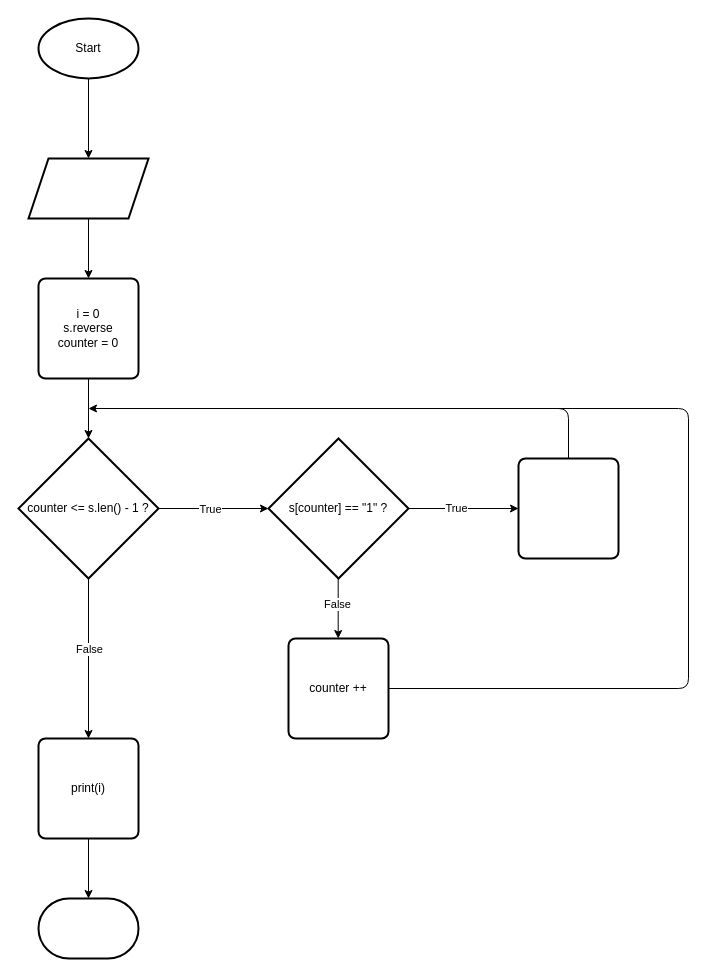
Image size: 707x976. Some labels were removed from this diagram. Each missing label, with the box of its shape:
End: (37, 897, 139, 959)
i += 2^counter counter ++: (517, 457, 619, 559)
INPUT s: (27, 157, 149, 219)
